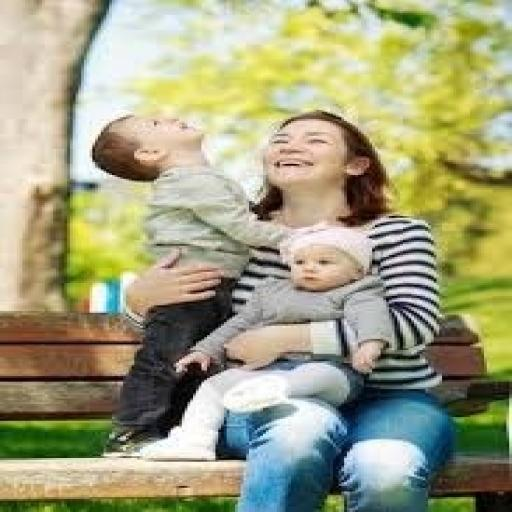hugging: (92, 108, 454, 510)
